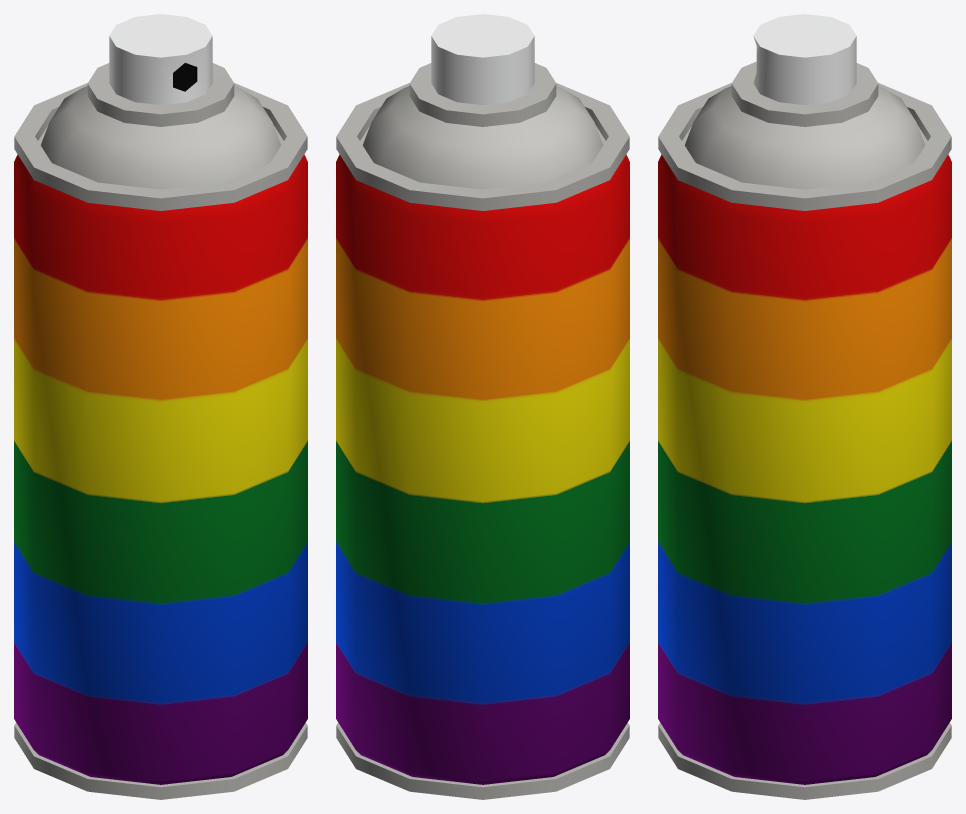
The model's file is da05d59a-a55b-418d-9a86-cad262c2dce8.glb.
3 renders of one model, left to right at view 1: azimuth 30°, elevation 25°; view 2: azimuth 150°, elevation 25°; view 3: azimuth 270°, elevation 25°, orthographic.
Visible parts, largest first — view 1: SprayCan; view 2: SprayCan; view 3: SprayCan.
Part boxes in pixels (x1,y1,x2,y2): SprayCan: (14, 14, 307, 799); SprayCan: (336, 14, 629, 799); SprayCan: (658, 14, 951, 799).
Size of the model in its own units: 0.0932 by 0.2459 by 0.0932.
Materials: 1 (1 with a texture image).
